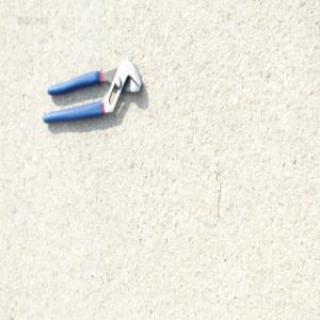Pliertrack_idkeyframe: (40, 58, 142, 126)
